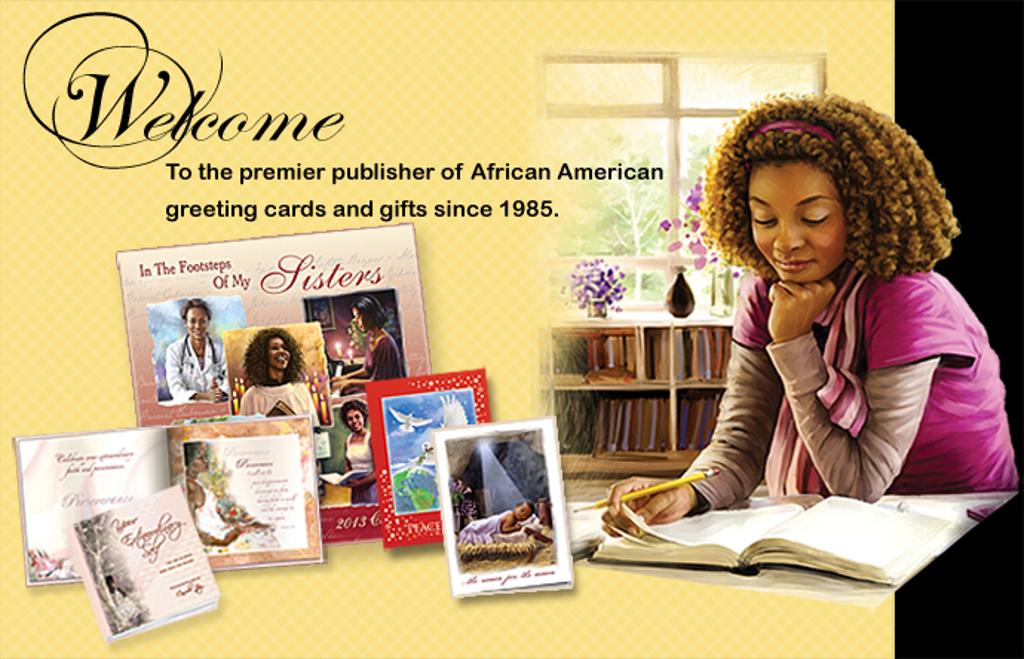face: (750, 172, 848, 284), (267, 339, 290, 368), (187, 310, 208, 338), (191, 447, 209, 472), (352, 310, 369, 331), (347, 413, 363, 430), (515, 506, 530, 519)
